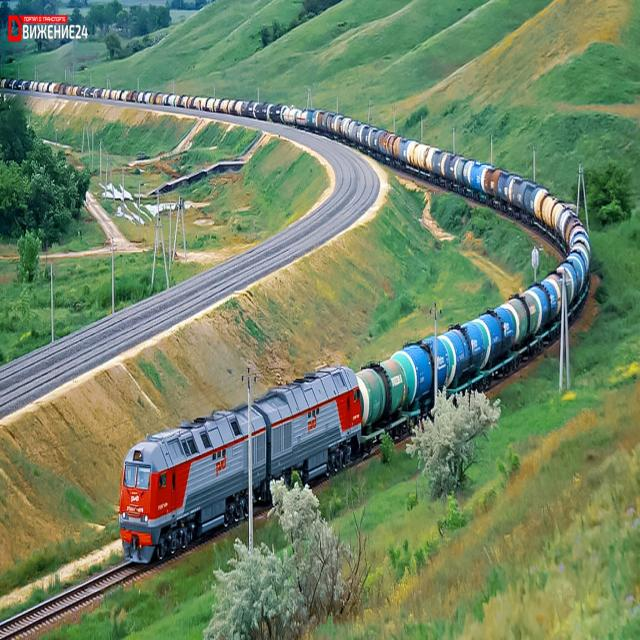locomotive: (115, 398, 269, 572), (248, 358, 367, 512)
tank: (351, 353, 412, 460), (392, 330, 452, 427), (440, 316, 488, 402)
